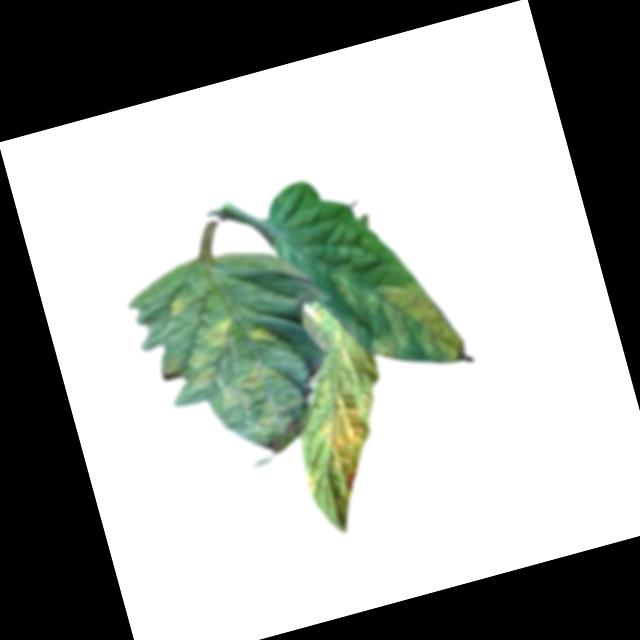Leaf_Mold: (174, 304, 307, 462), (330, 245, 467, 390), (307, 371, 398, 500), (161, 290, 193, 321)
